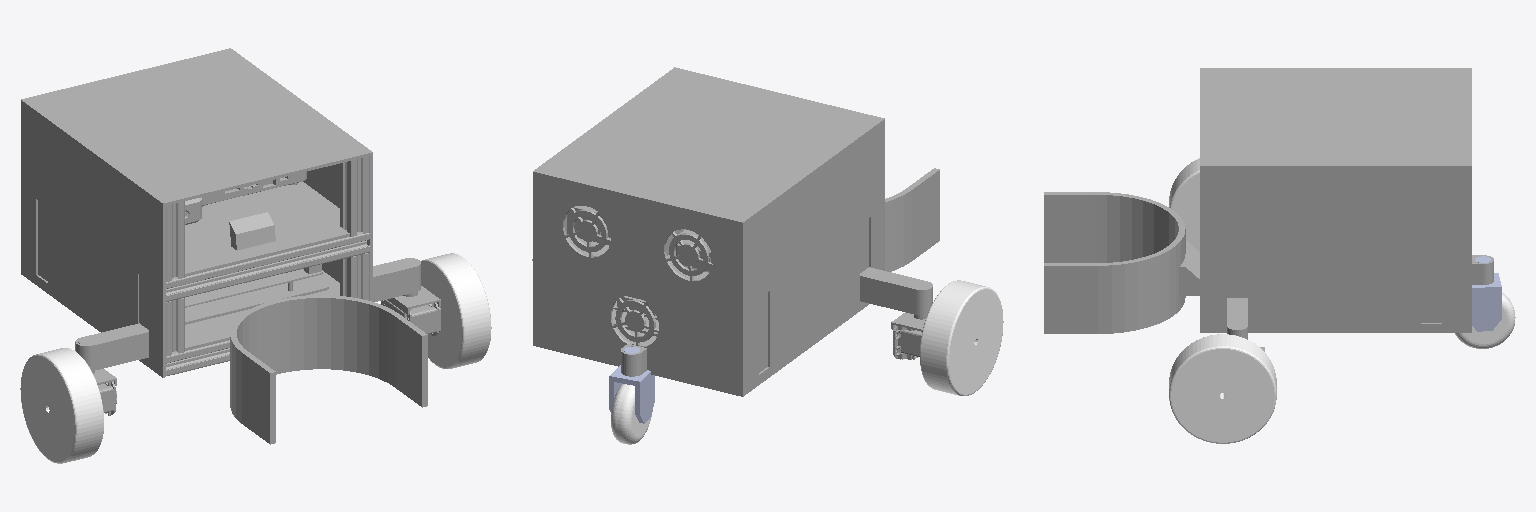
robot.urdf — threewheel:
<?xml version="1.0" encoding="utf-8"?>
<!-- This URDF was automatically created by SolidWorks to URDF Exporter! Originally created by [author] ([email redacted]) 
     Commit Version: 1.5.1-0-g916b5db  Build Version: 1.5.7152.31018
     For more information, please see http://wiki.ros.org/sw_urdf_exporter -->
<robot
  name="threewheel">
  <link
    name="base_link">
    <inertial>
      <origin
        xyz="0.10888 0.081496 -0.14241"
        rpy="0 0 0" />
      <mass
        value="5.3294" />
      <inertia
        ixx="0.021938"
        ixy="-4.0175E-06"
        ixz="-1.4796E-06"
        iyy="0.023203"
        iyz="-7.8034E-06"
        izz="0.014905" />
    </inertial>
    <visual>
      <origin
        xyz="0 0 0"
        rpy="0 0 0" />
      <geometry>
        <mesh
          filename="package://threewheel/meshes/base_link.STL" />
      </geometry>
      <material
        name="">
        <color
          rgba="0.75294 0.75294 0.75294 1" />
      </material>
    </visual>
    <collision>
      <origin
        xyz="0 0 0"
        rpy="0 0 0" />
      <geometry>
        <mesh
          filename="package://threewheel/meshes/base_link.STL" />
      </geometry>
    </collision>
  </link>
  <link
    name="LFS">
    <inertial>
      <origin
        xyz="0.066688 0.0036428 -0.064837"
        rpy="0 0 0" />
      <mass
        value="0.26437" />
      <inertia
        ixx="3.2075E-05"
        ixy="-1.4412E-07"
        ixz="-6.3085E-08"
        iyy="6.227E-05"
        iyz="-2.0189E-07"
        izz="6.2852E-05" />
    </inertial>
    <visual>
      <origin
        xyz="0 0 0"
        rpy="0 0 0" />
      <geometry>
        <mesh
          filename="package://threewheel/meshes/LFS.STL" />
      </geometry>
      <material
        name="">
        <color
          rgba="0.75294 0.75294 0.75294 1" />
      </material>
    </visual>
    <collision>
      <origin
        xyz="0 0 0"
        rpy="0 0 0" />
      <geometry>
        <mesh
          filename="package://threewheel/meshes/LFS.STL" />
      </geometry>
    </collision>
  </link>
  <joint
    name="LFS"
    type="prismatic">
    <origin
      xyz="0.31516 0.050812 -0.047207"
      rpy="2.834 0 3.1416" />
    <parent
      link="base_link" />
    <child
      link="LFS" />
    <axis
      xyz="0 0.3028 -0.95305" />
    <limit
      lower="0"
      upper="0"
      effort="0"
      velocity="0" />
  </joint>
  <link
    name="LFW">
    <inertial>
      <origin
        xyz="-0.008411 1.7347E-18 0"
        rpy="0 0 0" />
      <mass
        value="0.23877" />
      <inertia
        ixx="0.00029907"
        ixy="-3.4096E-22"
        ixz="-2.4198E-21"
        iyy="0.00016737"
        iyz="1.3553E-20"
        izz="0.00016737" />
    </inertial>
    <visual>
      <origin
        xyz="0 0 0"
        rpy="0 0 0" />
      <geometry>
        <mesh
          filename="package://threewheel/meshes/LFW.STL" />
      </geometry>
      <material
        name="">
        <color
          rgba="1 1 1 1" />
      </material>
    </visual>
    <collision>
      <origin
        xyz="0 0 0"
        rpy="0 0 0" />
      <geometry>
        <mesh
          filename="package://threewheel/meshes/LFW.STL" />
      </geometry>
    </collision>
  </link>
  <joint
    name="LFW"
    type="continuous">
    <origin
      xyz="0 -0.018219 -0.039786"
      rpy="-2.5238 0 3.1416" />
    <parent
      link="LFS" />
    <child
      link="LFW" />
    <axis
      xyz="1 0 0" />
    <limit
      effort="3.1"
      velocity="7" />
  </joint>
  <link
    name="RFS">
    <inertial>
      <origin
        xyz="0.072447 -0.0024231 -0.066755"
        rpy="0 0 0" />
      <mass
        value="0.26437" />
      <inertia
        ixx="3.2075E-05"
        ixy="1.4412E-07"
        ixz="6.3085E-08"
        iyy="6.227E-05"
        iyz="-2.0189E-07"
        izz="6.2852E-05" />
    </inertial>
    <visual>
      <origin
        xyz="0 0 0"
        rpy="0 0 0" />
      <geometry>
        <mesh
          filename="package://threewheel/meshes/RFS.STL" />
      </geometry>
      <material
        name="">
        <color
          rgba="0.75294 0.75294 0.75294 1" />
      </material>
    </visual>
    <collision>
      <origin
        xyz="0 0 0"
        rpy="0 0 0" />
      <geometry>
        <mesh
          filename="package://threewheel/meshes/RFS.STL" />
      </geometry>
    </collision>
  </link>
  <joint
    name="RFS"
    type="prismatic">
    <origin
      xyz="-0.10492 0.012128 -0.047207"
      rpy="2.834 0 0" />
    <parent
      link="base_link" />
    <child
      link="RFS" />
    <axis
      xyz="0 0.3028 -0.95305" />
    <limit
      lower="0"
      upper="0"
      effort="0"
      velocity="0" />
  </joint>
  <link
    name="RFW">
    <inertial>
      <origin
        xyz="0.014171 0 0"
        rpy="0 0 0" />
      <mass
        value="0.23877" />
      <inertia
        ixx="0.00029907"
        ixy="-6.0887E-37"
        ixz="-1.8343E-36"
        iyy="0.00016737"
        iyz="-3.2644E-38"
        izz="0.00016737" />
    </inertial>
    <visual>
      <origin
        xyz="0 0 0"
        rpy="0 0 0" />
      <geometry>
        <mesh
          filename="package://threewheel/meshes/RFW.STL" />
      </geometry>
      <material
        name="">
        <color
          rgba="1 1 1 1" />
      </material>
    </visual>
    <collision>
      <origin
        xyz="0 0 0"
        rpy="0 0 0" />
      <geometry>
        <mesh
          filename="package://threewheel/meshes/RFW.STL" />
      </geometry>
    </collision>
  </link>
  <joint
    name="RFW"
    type="continuous">
    <origin
      xyz="0 0.00097405 -0.03369"
      rpy="-1.2632 0 0" />
    <parent
      link="RFS" />
    <child
      link="RFW" />
    <axis
      xyz="1 0 0" />
    <limit
      effort="3.1"
      velocity="7" />
  </joint>
  <link
    name="BC">
    <inertial>
      <origin
        xyz="4.0063E-07 -0.0094793 -5.5511E-17"
        rpy="0 0 0" />
      <mass
        value="0.020987" />
      <inertia
        ixx="7.3202E-06"
        ixy="2.1294E-10"
        ixz="7.9409E-22"
        iyy="3.6659E-06"
        iyz="9.0975E-22"
        izz="8.246E-06" />
    </inertial>
    <visual>
      <origin
        xyz="0 0 0"
        rpy="0 0 0" />
      <geometry>
        <mesh
          filename="package://threewheel/meshes/BC.STL" />
      </geometry>
      <material
        name="">
        <color
          rgba="0.79216 0.81961 0.93333 1" />
      </material>
    </visual>
    <collision>
      <origin
        xyz="0 0 0"
        rpy="0 0 0" />
      <geometry>
        <mesh
          filename="package://threewheel/meshes/BC.STL" />
      </geometry>
    </collision>
  </link>
  <joint
    name="BC"
    type="continuous">
    <origin
      xyz="0.108 0.263000868409068 0"
      rpy="1.5707963267949 0 0.102544806239951" />
    <parent
      link="base_link" />
    <child
      link="BC" />
    <axis
      xyz="0 1 0" />
  </joint>
  <link
    name="BW">
    <inertial>
      <origin
        xyz="1.2669E-05 6.9389E-18 -5.5511E-17"
        rpy="0 0 0" />
      <mass
        value="0.052036" />
      <inertia
        ixx="2.1966E-05"
        ixy="1.2016E-21"
        ixz="-5.7175E-21"
        iyy="1.254E-05"
        iyz="-4.9371E-37"
        izz="1.254E-05" />
    </inertial>
    <visual>
      <origin
        xyz="0 0 0"
        rpy="0 0 0" />
      <geometry>
        <mesh
          filename="package://threewheel/meshes/BW.STL" />
      </geometry>
      <material
        name="">
        <color
          rgba="1 1 1 1" />
      </material>
    </visual>
    <collision>
      <origin
        xyz="0 0 0"
        rpy="0 0 0" />
      <geometry>
        <mesh
          filename="package://threewheel/meshes/BW.STL" />
      </geometry>
    </collision>
  </link>
  <joint
    name="BW"
    type="continuous">
    <origin
      xyz="0 -0.034804 0"
      rpy="0 0 0" />
    <parent
      link="BC" />
    <child
      link="BW" />
    <axis
      xyz="1 0 0" />
  </joint>
</robot>

--- What the picture shows (computed from the rendered views, not written in the file) ---
The picture shows the robot from 3 angles, left to right: view 1: azimuth 30°, elevation 25°; view 2: azimuth 150°, elevation 25°; view 3: azimuth 270°, elevation 25°; orthographic projection.
Robot: threewheel — 7 links, 6 joints (4 continuous, 2 prismatic); root link base_link; default pose: every joint at zero.
Links seen in each view (by area): view 1: base_link, RFW, LFW, LFS, RFS; view 2: base_link, RFW, RFS, BW, BC; view 3: base_link, LFW, RFW, BC, BW, LFS.
Link boxes in pixels (left/top/right/bottom): base_link: left=21, top=48, right=427, bottom=444; RFW: left=20, top=348, right=103, bottom=463; LFW: left=421, top=253, right=491, bottom=368; LFS: left=373, top=258, right=440, bottom=336; RFS: left=75, top=323, right=148, bottom=415; base_link: left=533, top=67, right=939, bottom=396; RFW: left=920, top=280, right=1003, bottom=395; RFS: left=860, top=267, right=932, bottom=359; BW: left=611, top=384, right=652, bottom=444; BC: left=609, top=347, right=654, bottom=423; base_link: left=1044, top=68, right=1493, bottom=333; LFW: left=1169, top=334, right=1276, bottom=443; RFW: left=1169, top=158, right=1199, bottom=251; BC: left=1472, top=256, right=1501, bottom=331; BW: left=1455, top=293, right=1515, bottom=348; LFS: left=1227, top=298, right=1264, bottom=351.
Bounding box of the posed robot: 0.4275 × 0.4373 × 0.2358 m (x, y, z).
7 mesh visuals loaded from 7 distinct referenced files (7 binary STL).